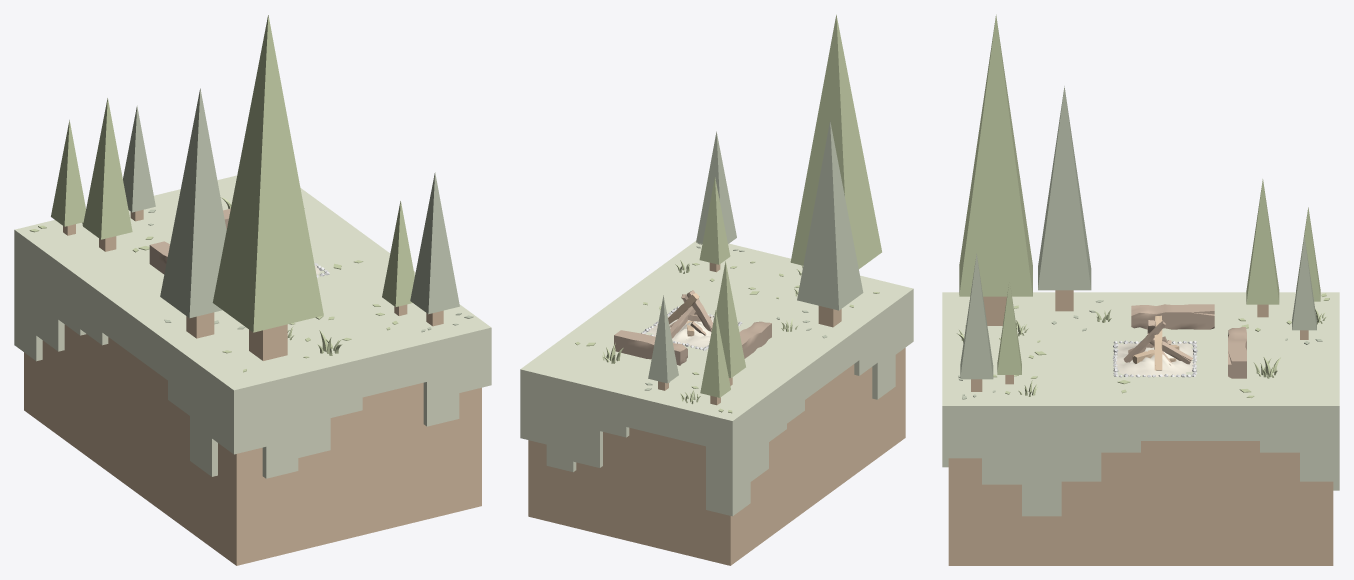
The model's file is plattform_start_5.dae.
3 renders of one model, left to right at view 1: azimuth 30°, elevation 25°; view 2: azimuth 150°, elevation 25°; view 3: azimuth 270°, elevation 25°, orthographic. The views are drawn at different scales.
Visible parts, largest first — view 1: top, down, treetop.006, treetop.005, treetop.001, treetop.002, treetop.003, treetop, treetop.004, trunk.006, trunk.005; view 2: top, down, treetop.006, treetop.005, treetop.002, treetop.001, treetop, treetop.003, treetop.004, Baumstamm.009, Baumstamm.010, Landschaft; view 3: top, down, treetop.006, treetop.005, treetop.001, treetop.002, Baumstamm.010, Landschaft, treetop.004, treetop, Baumstamm.009, treetop.003 (+1 smaller).
Part boxes in pixels (x1,y1,x2,y2): top: (14,175,491,478); down: (24,324,481,565); treetop.006: (212,15,323,332); treetop.005: (160,88,226,318); treetop.001: (410,172,459,314); treetop.002: (83,98,132,239); treetop.003: (51,120,85,226); treetop: (382,201,414,306); treetop.004: (123,105,155,212); trunk.006: (249,324,287,360); trunk.005: (186,312,214,338); top: (520,241,913,516); down: (528,348,905,565); treetop.006: (790,14,881,268); treetop.005: (797,120,863,310); treetop.002: (716,261,745,377); treetop.001: (696,131,736,243); treetop: (699,177,730,264); treetop.003: (700,310,730,397); treetop.004: (648,295,678,383); Baumstamm.009: (614,330,687,365); Baumstamm.010: (739,321,771,358); Landschaft: (647,313,713,347); top: (942,292,1339,516); down: (948,441,1333,565); treetop.006: (959,14,1032,296); treetop.005: (1038,86,1091,290); treetop.001: (960,253,993,379); treetop.002: (1246,179,1279,304); Baumstamm.010: (1131,304,1214,329); Landschaft: (1113,342,1196,376); treetop.004: (1292,236,1316,330); treetop: (997,280,1021,374); Baumstamm.009: (1228,327,1246,378); treetop.003: (1296,207,1320,301).
Bounding box in the file's own units: 210 × 310 × 404.
